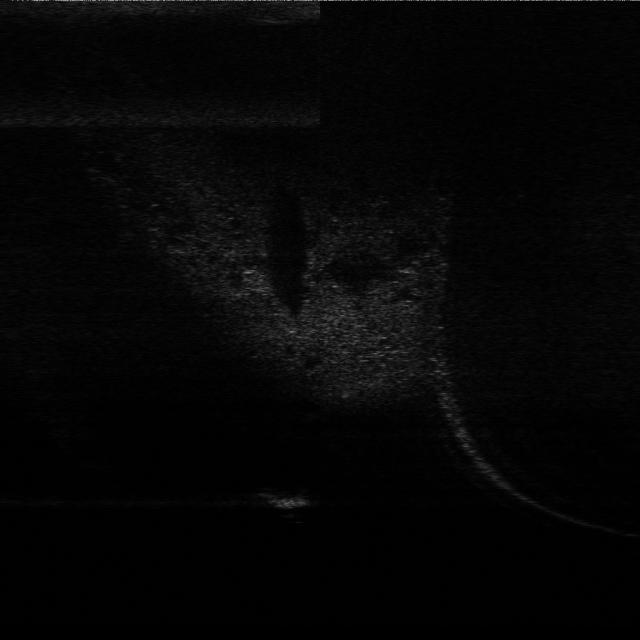square cage: (254, 485, 322, 522)
